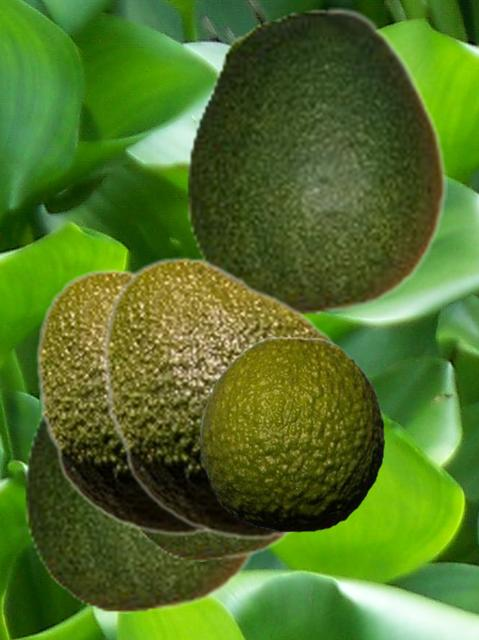avocado: (185, 7, 446, 315), (102, 256, 342, 540), (23, 406, 260, 612), (35, 268, 209, 536), (199, 336, 383, 531), (133, 529, 294, 560)
